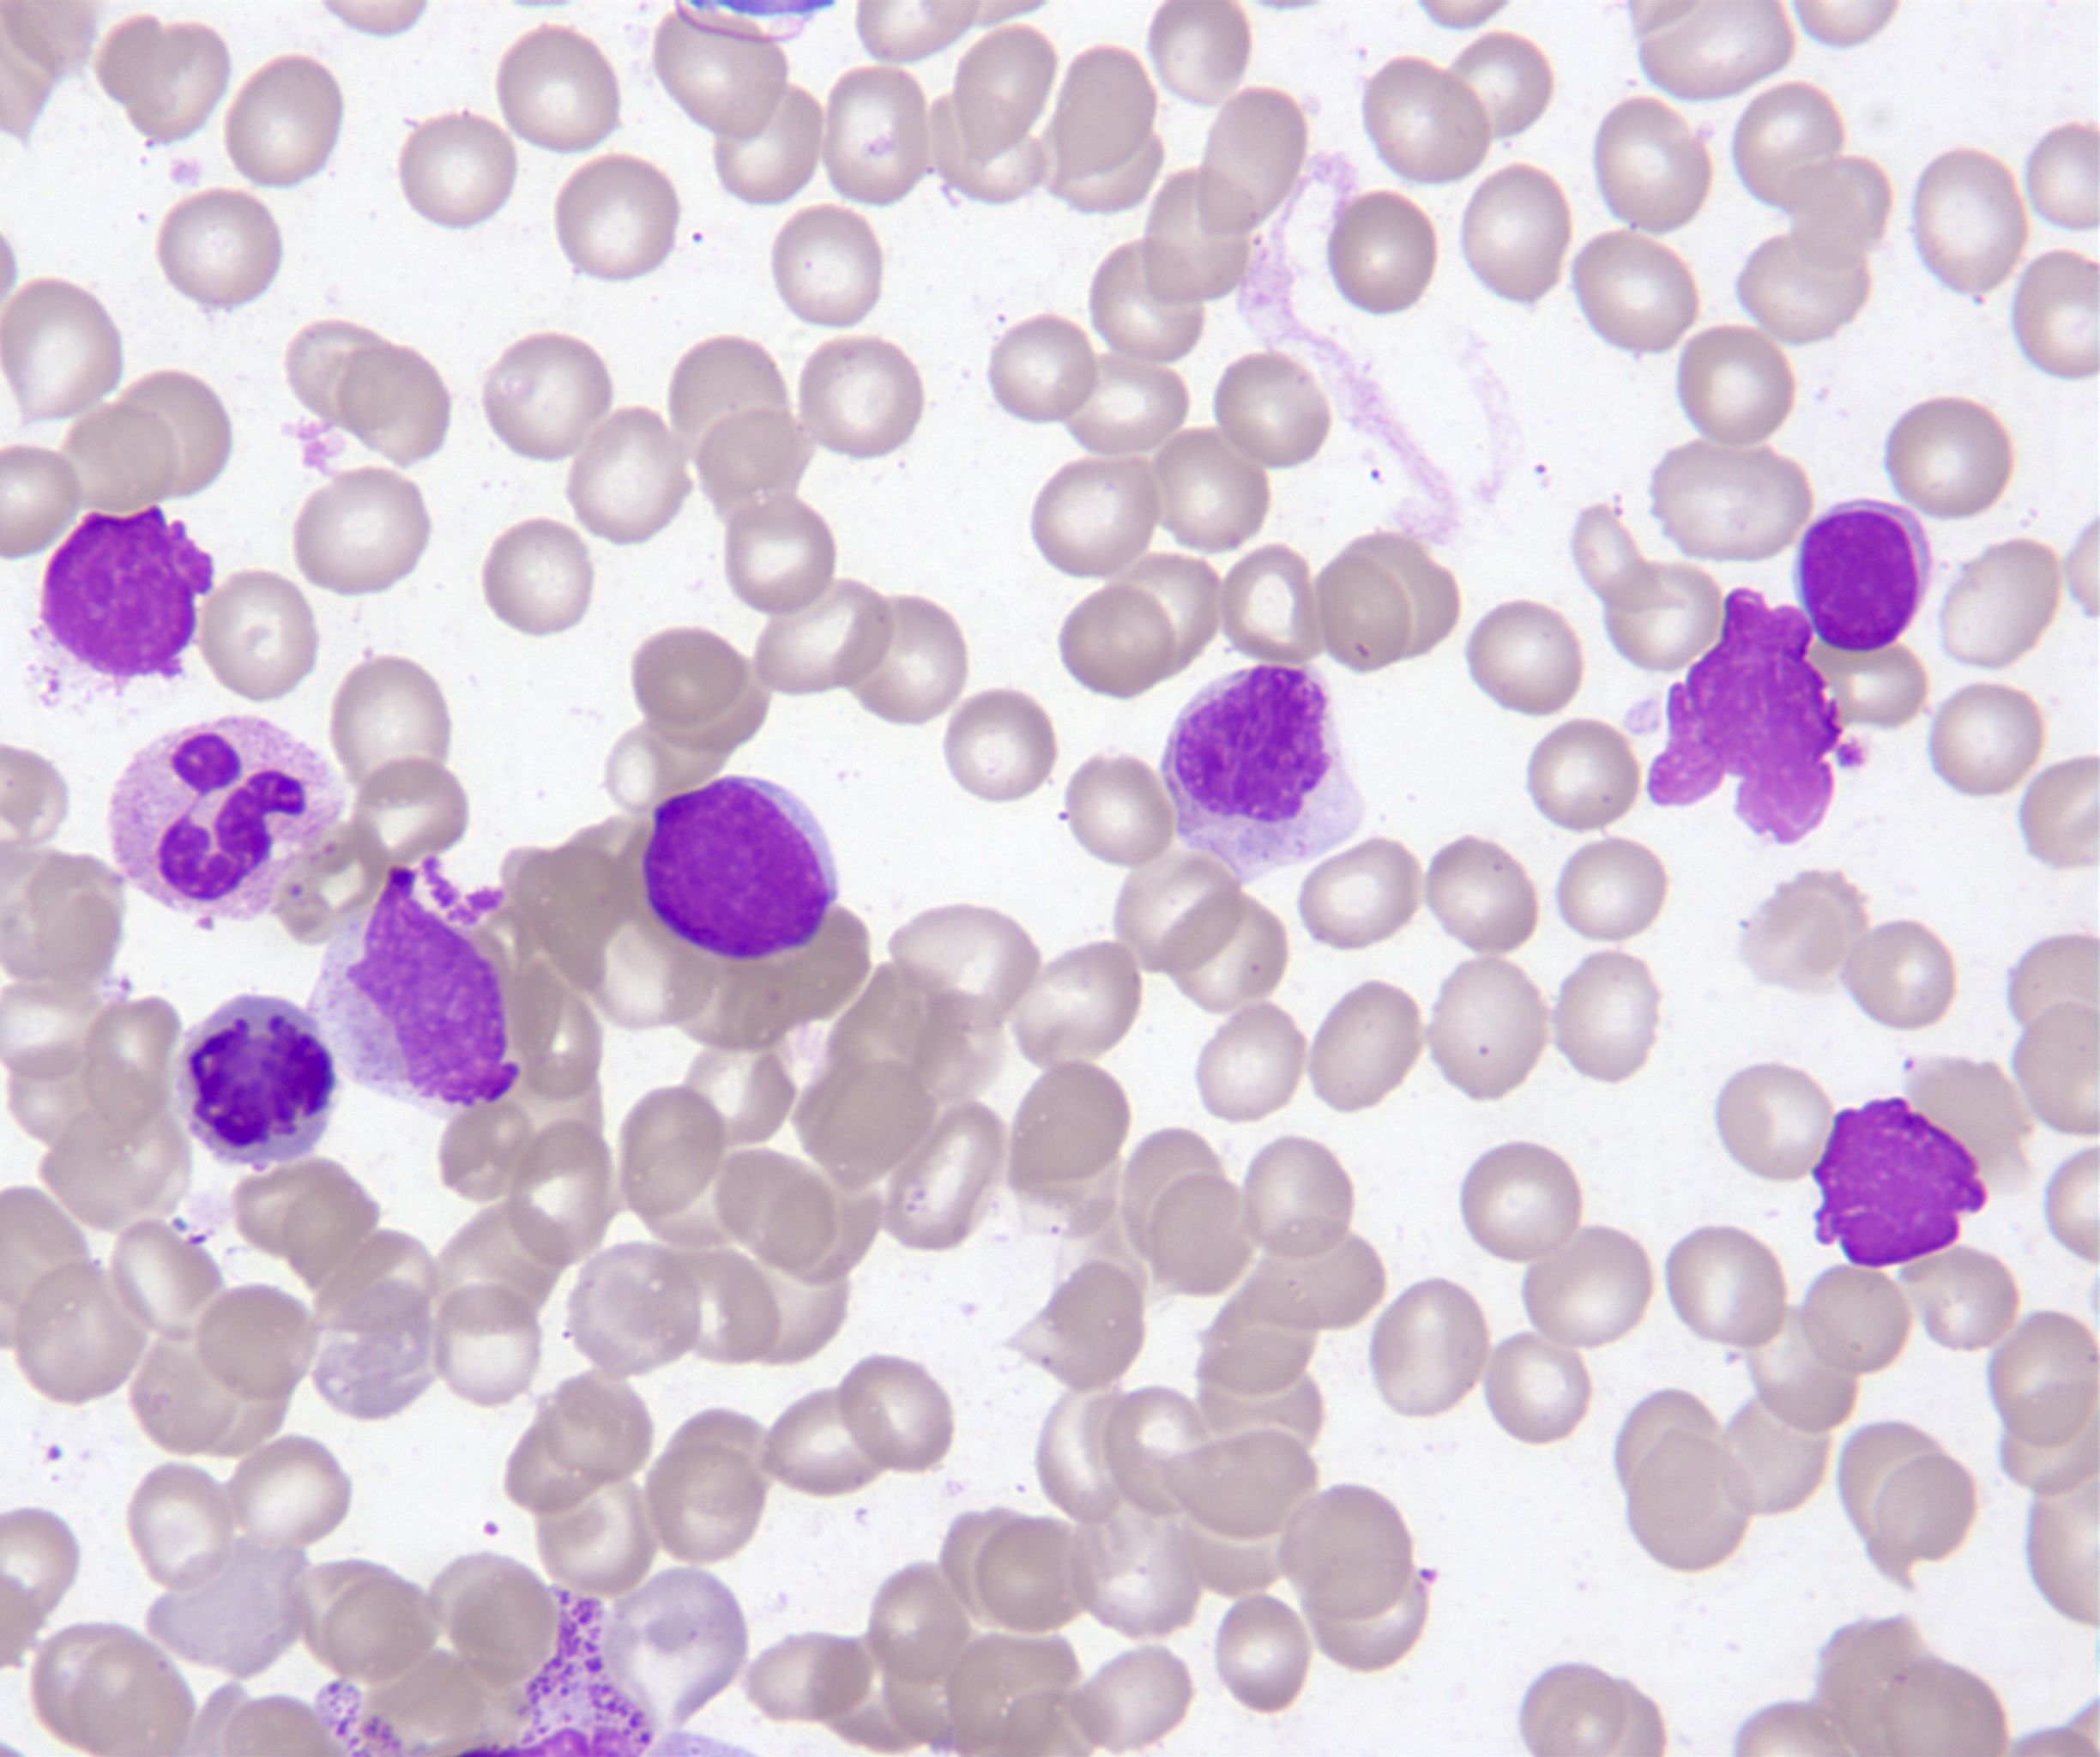3: (1153, 660, 1374, 886)
32: (631, 768, 844, 970), (1790, 494, 1938, 660)
4: (302, 862, 534, 1129)
6: (101, 710, 356, 930)
x: (1643, 583, 1852, 853), (31, 499, 223, 687), (169, 988, 352, 1178), (1807, 1092, 1995, 1274)
